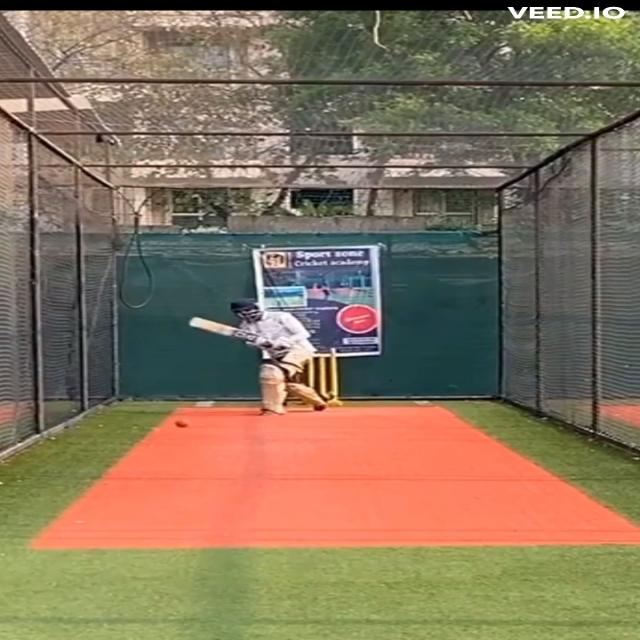ball: (171, 415, 192, 431)
stump: (303, 346, 343, 404)
